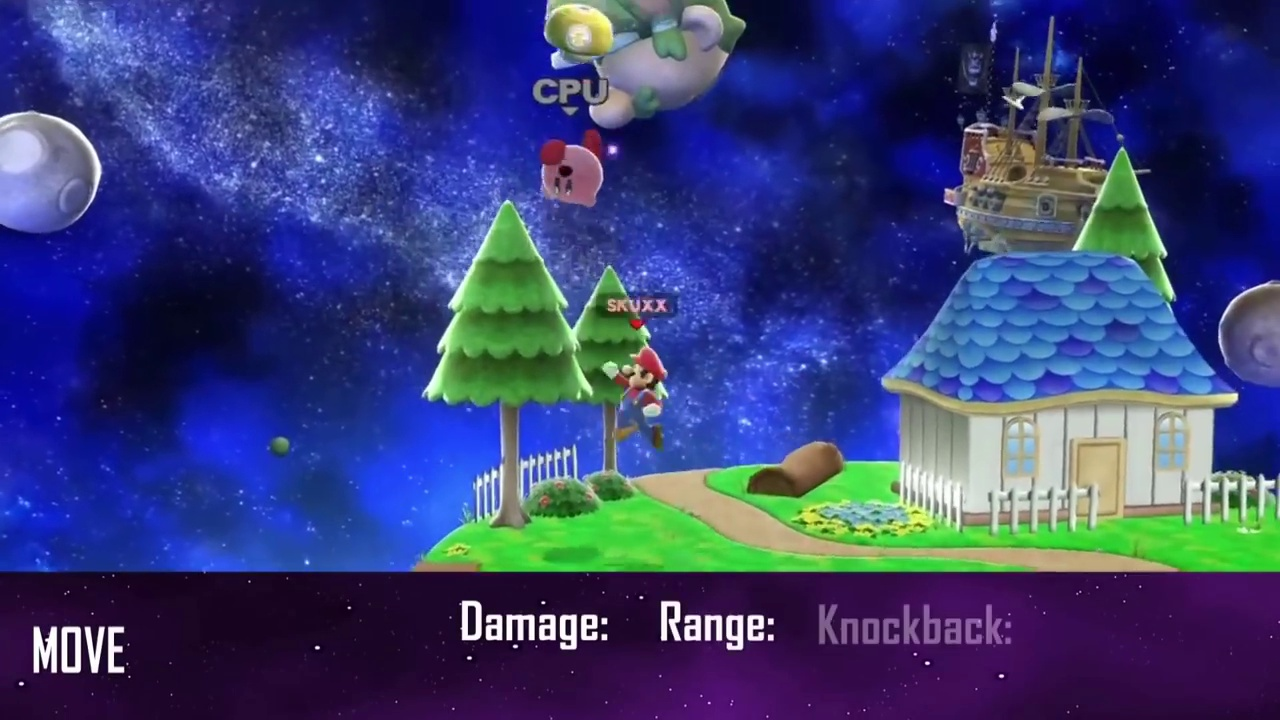Mario: (602, 348, 670, 448)
